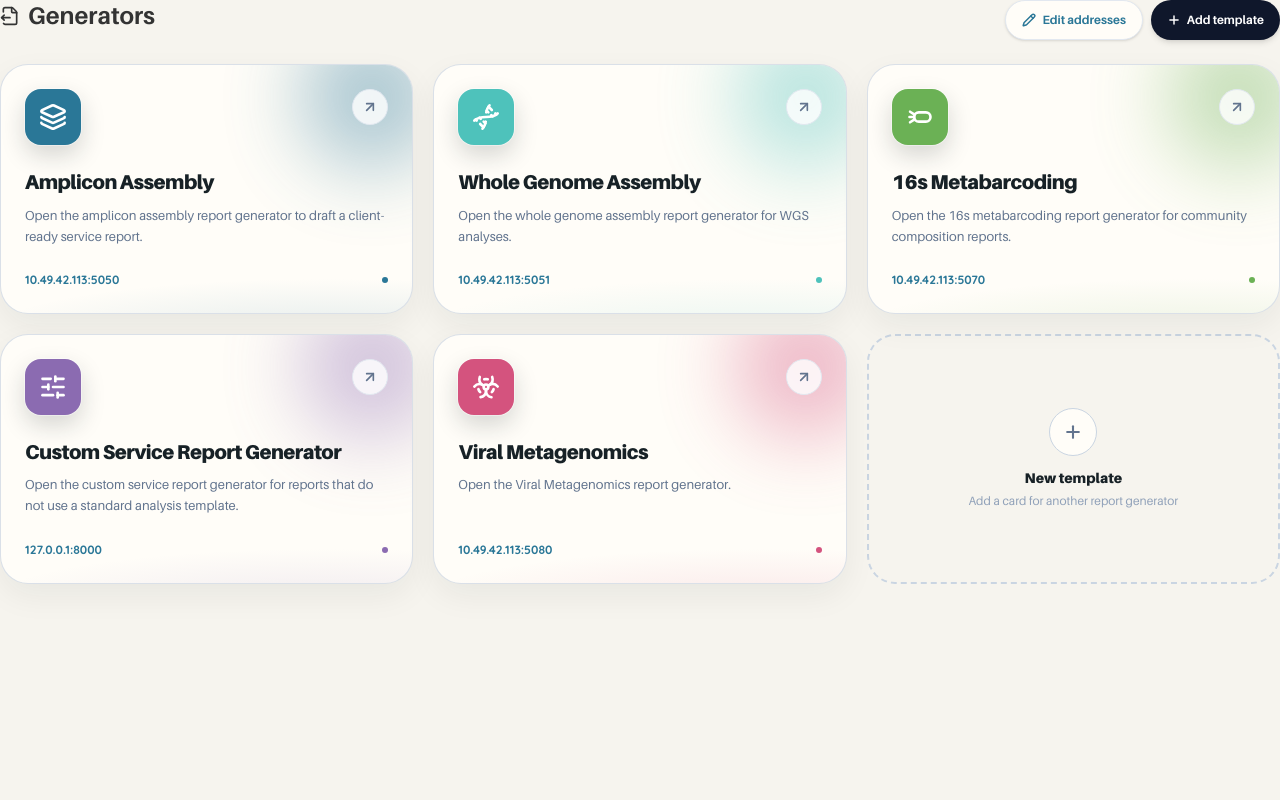
Test: ServiceReportGeneratorGrid › removes a custom template but not built-in cards
The image size is (1280, 800).
Check: the heading "Viral Metagenomics" is shown, box [458,440,648,464]
Click the button "Edit addresses" at (1074, 20), box [1005,0,1143,40]
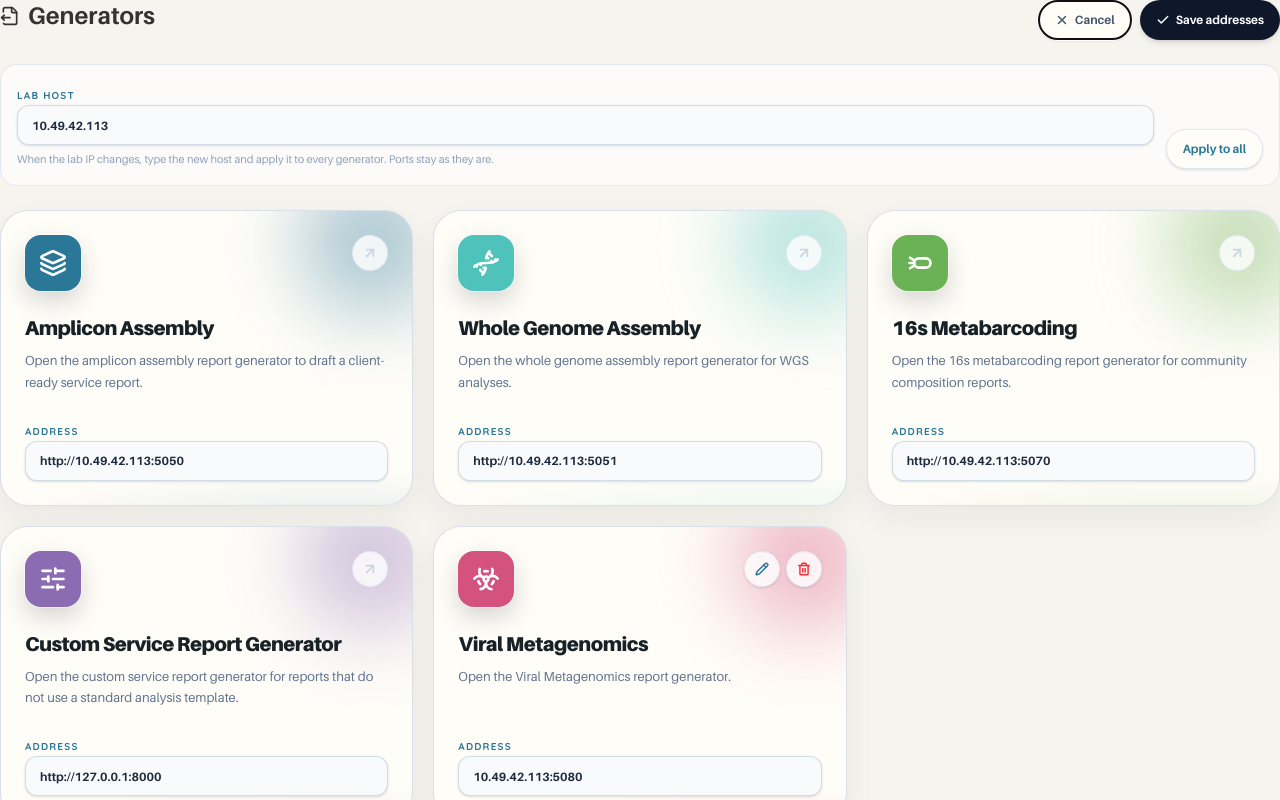
Click the button named "Remove Viral Metagenomics" at (804, 569), box [786,551,822,587]
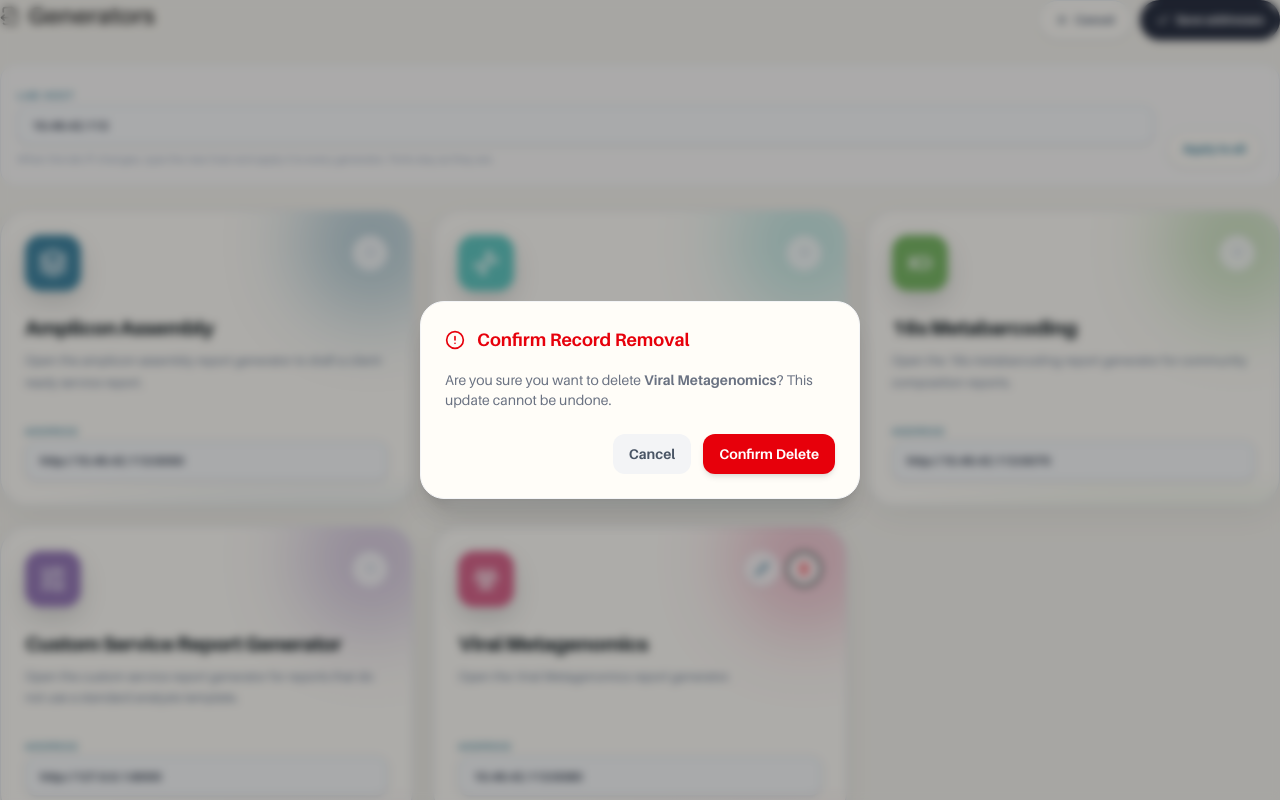
Click the button "Confirm Delete" at (769, 454), box [703,434,835,474]
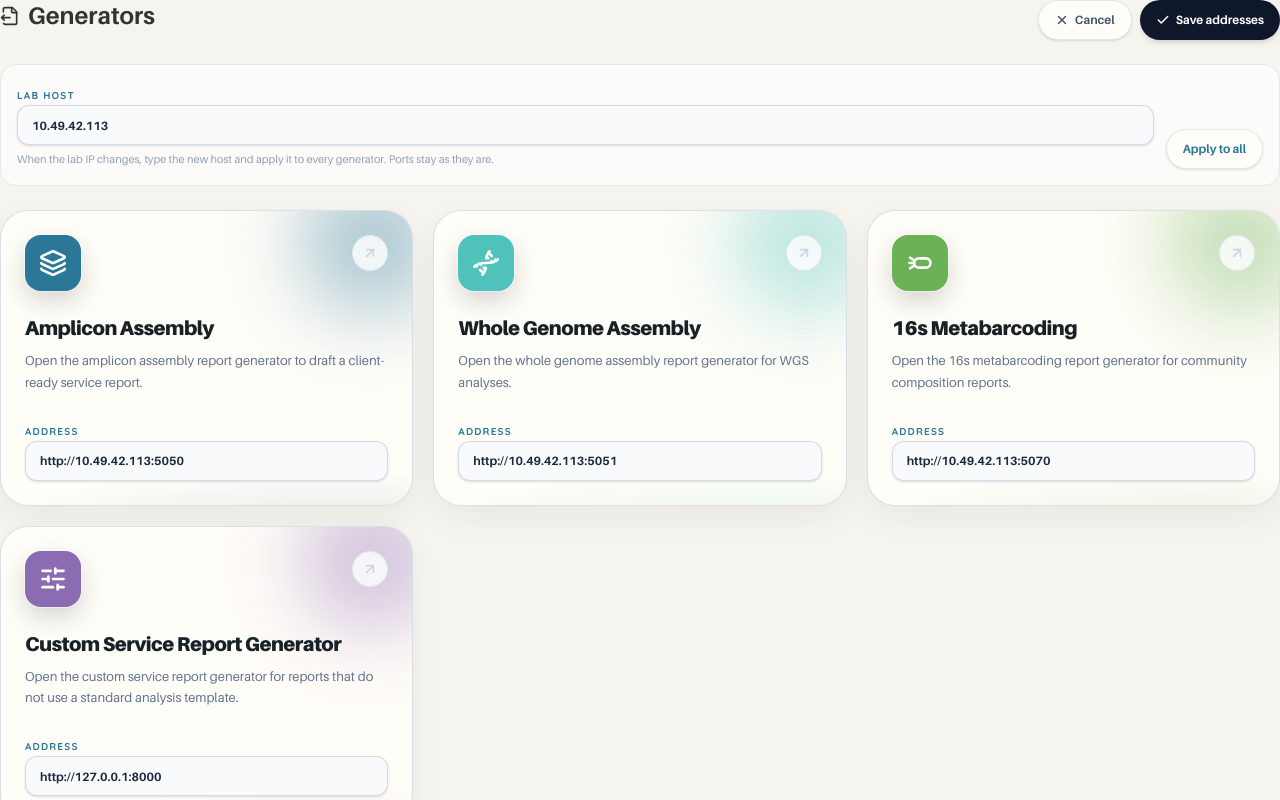
Check: the heading "Viral Metagenomics" is gone
